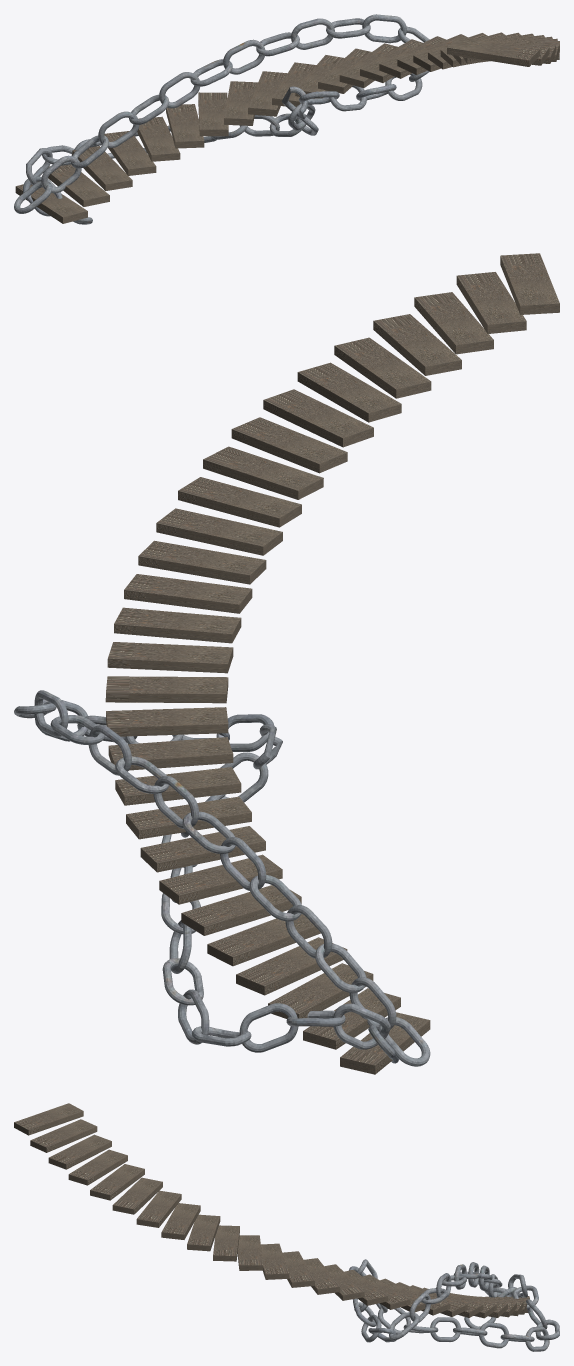
File: stairchains.fbx
3 views of the same model, one above another, from view 1: azimuth 30°, elevation 25°; view 2: azimuth 150°, elevation 25°; view 3: azimuth 270°, elevation 25° (orthographic). The views are drawn at different scales.
Visible parts, largest first — view 1: stair, Torus; view 2: stair, Torus; view 3: stair, Torus.
Boxes of the visible parts, x1,y1,x2,y2 form: stair: [15, 32, 559, 223]; Torus: [14, 14, 429, 224]; stair: [105, 253, 559, 1074]; Torus: [14, 690, 430, 1066]; stair: [14, 1103, 529, 1318]; Torus: [349, 1259, 559, 1351].
Bounding box in the file's own units: 2254 × 2012 × 3654.
